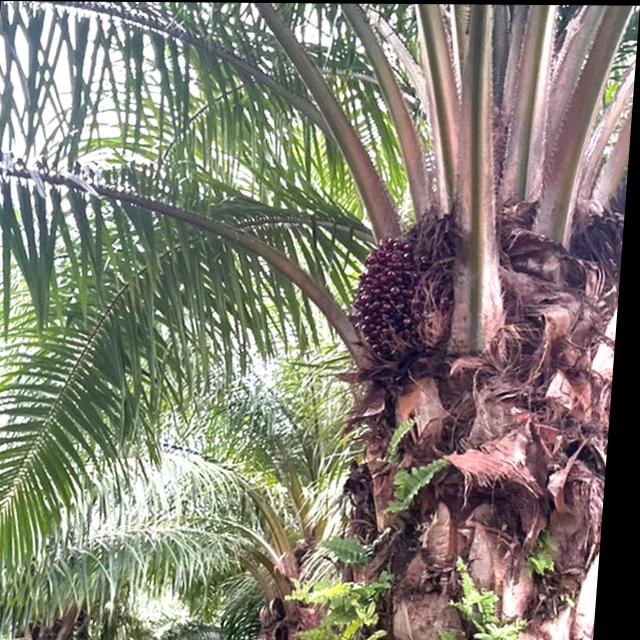ripe: (342, 217, 455, 376)
